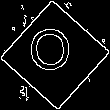O_S: (32, 28, 78, 82)
